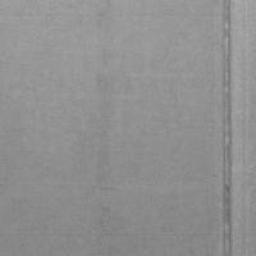Welding line: (223, 0, 230, 256)
